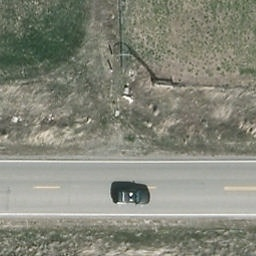car: (112, 189, 152, 206)
